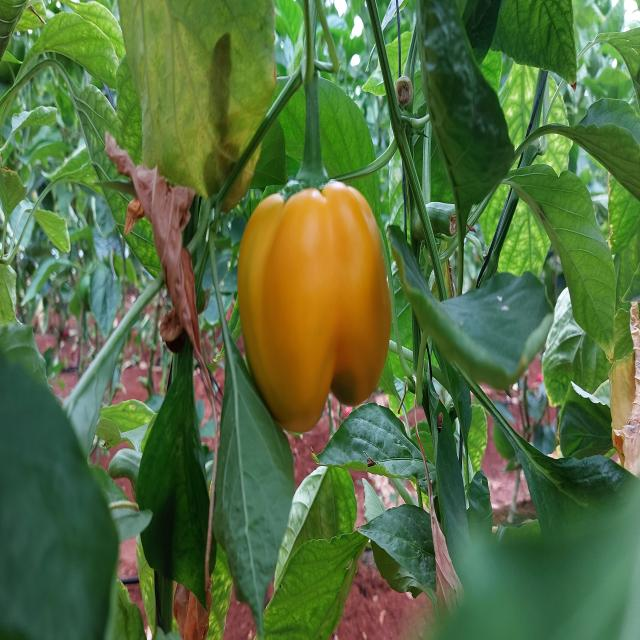Yellow-Ready-to-Harvest: (236, 187, 396, 436)
